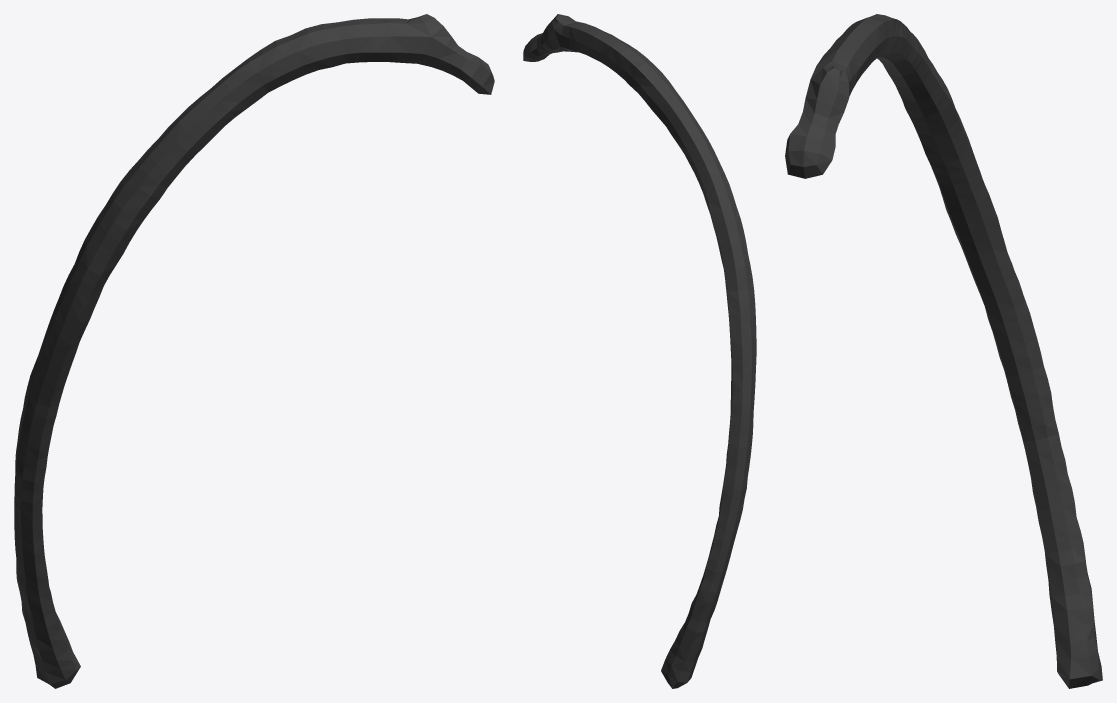
The model's file is Rib_8_R.glb.
The picture shows the model from 3 angles, left to right: view 1: azimuth 30°, elevation 25°; view 2: azimuth 150°, elevation 25°; view 3: azimuth 270°, elevation 25°; orthographic projection. The views are drawn at different scales.
Parts seen in each view (by area): view 1: Rib_8_R; view 2: Rib_8_R; view 3: Rib_8_R.
Part boxes in pixels (left/top/right/bottom): Rib_8_R: left=14, top=14, right=494, bottom=688; Rib_8_R: left=523, top=14, right=756, bottom=688; Rib_8_R: left=785, top=14, right=1102, bottom=688.
Bounding box in the file's own units: 4.81 × 8.52 × 3.23.
Materials: 1 (1 with a texture image).
